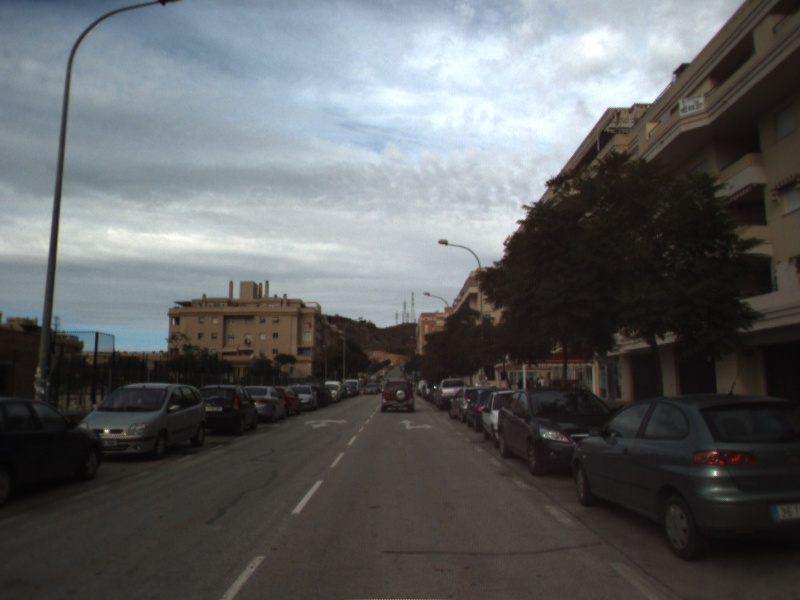STRAIGHT_RIGHT: (398, 417, 435, 432)
